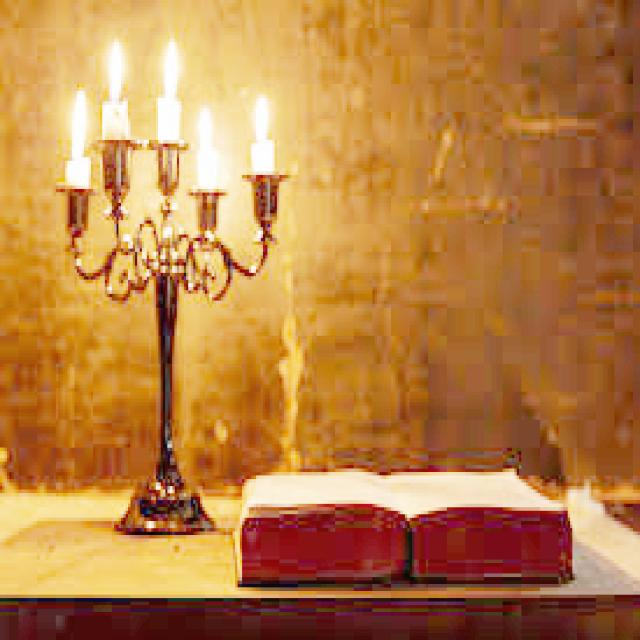api: (159, 36, 183, 106), (64, 88, 89, 155), (104, 39, 125, 106), (194, 102, 215, 155), (248, 92, 269, 144)
